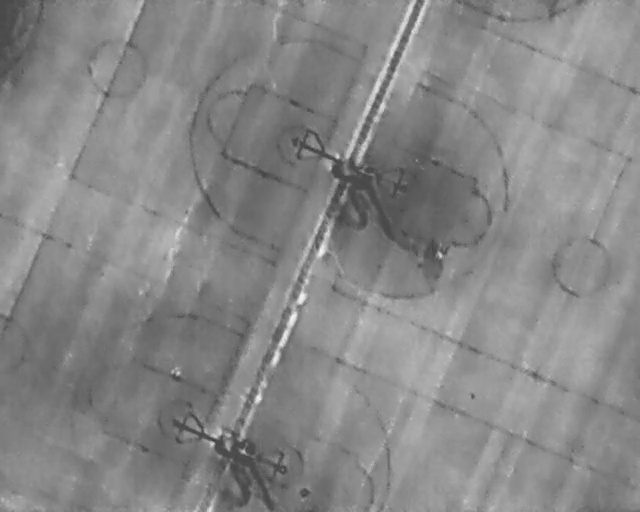Person: (170, 364, 183, 381), (435, 246, 441, 258)
